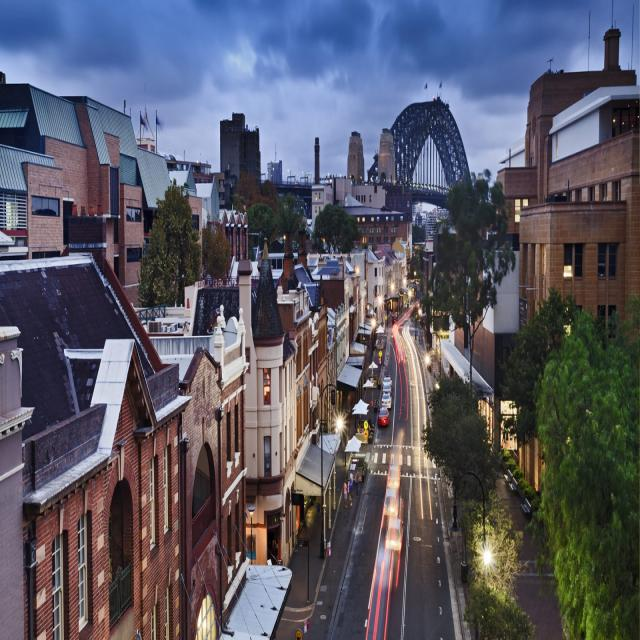body: (356, 417, 373, 439), (346, 477, 354, 507), (354, 466, 360, 498), (508, 428, 516, 450), (343, 478, 348, 508), (349, 469, 354, 494), (501, 425, 507, 445), (505, 426, 510, 450)
